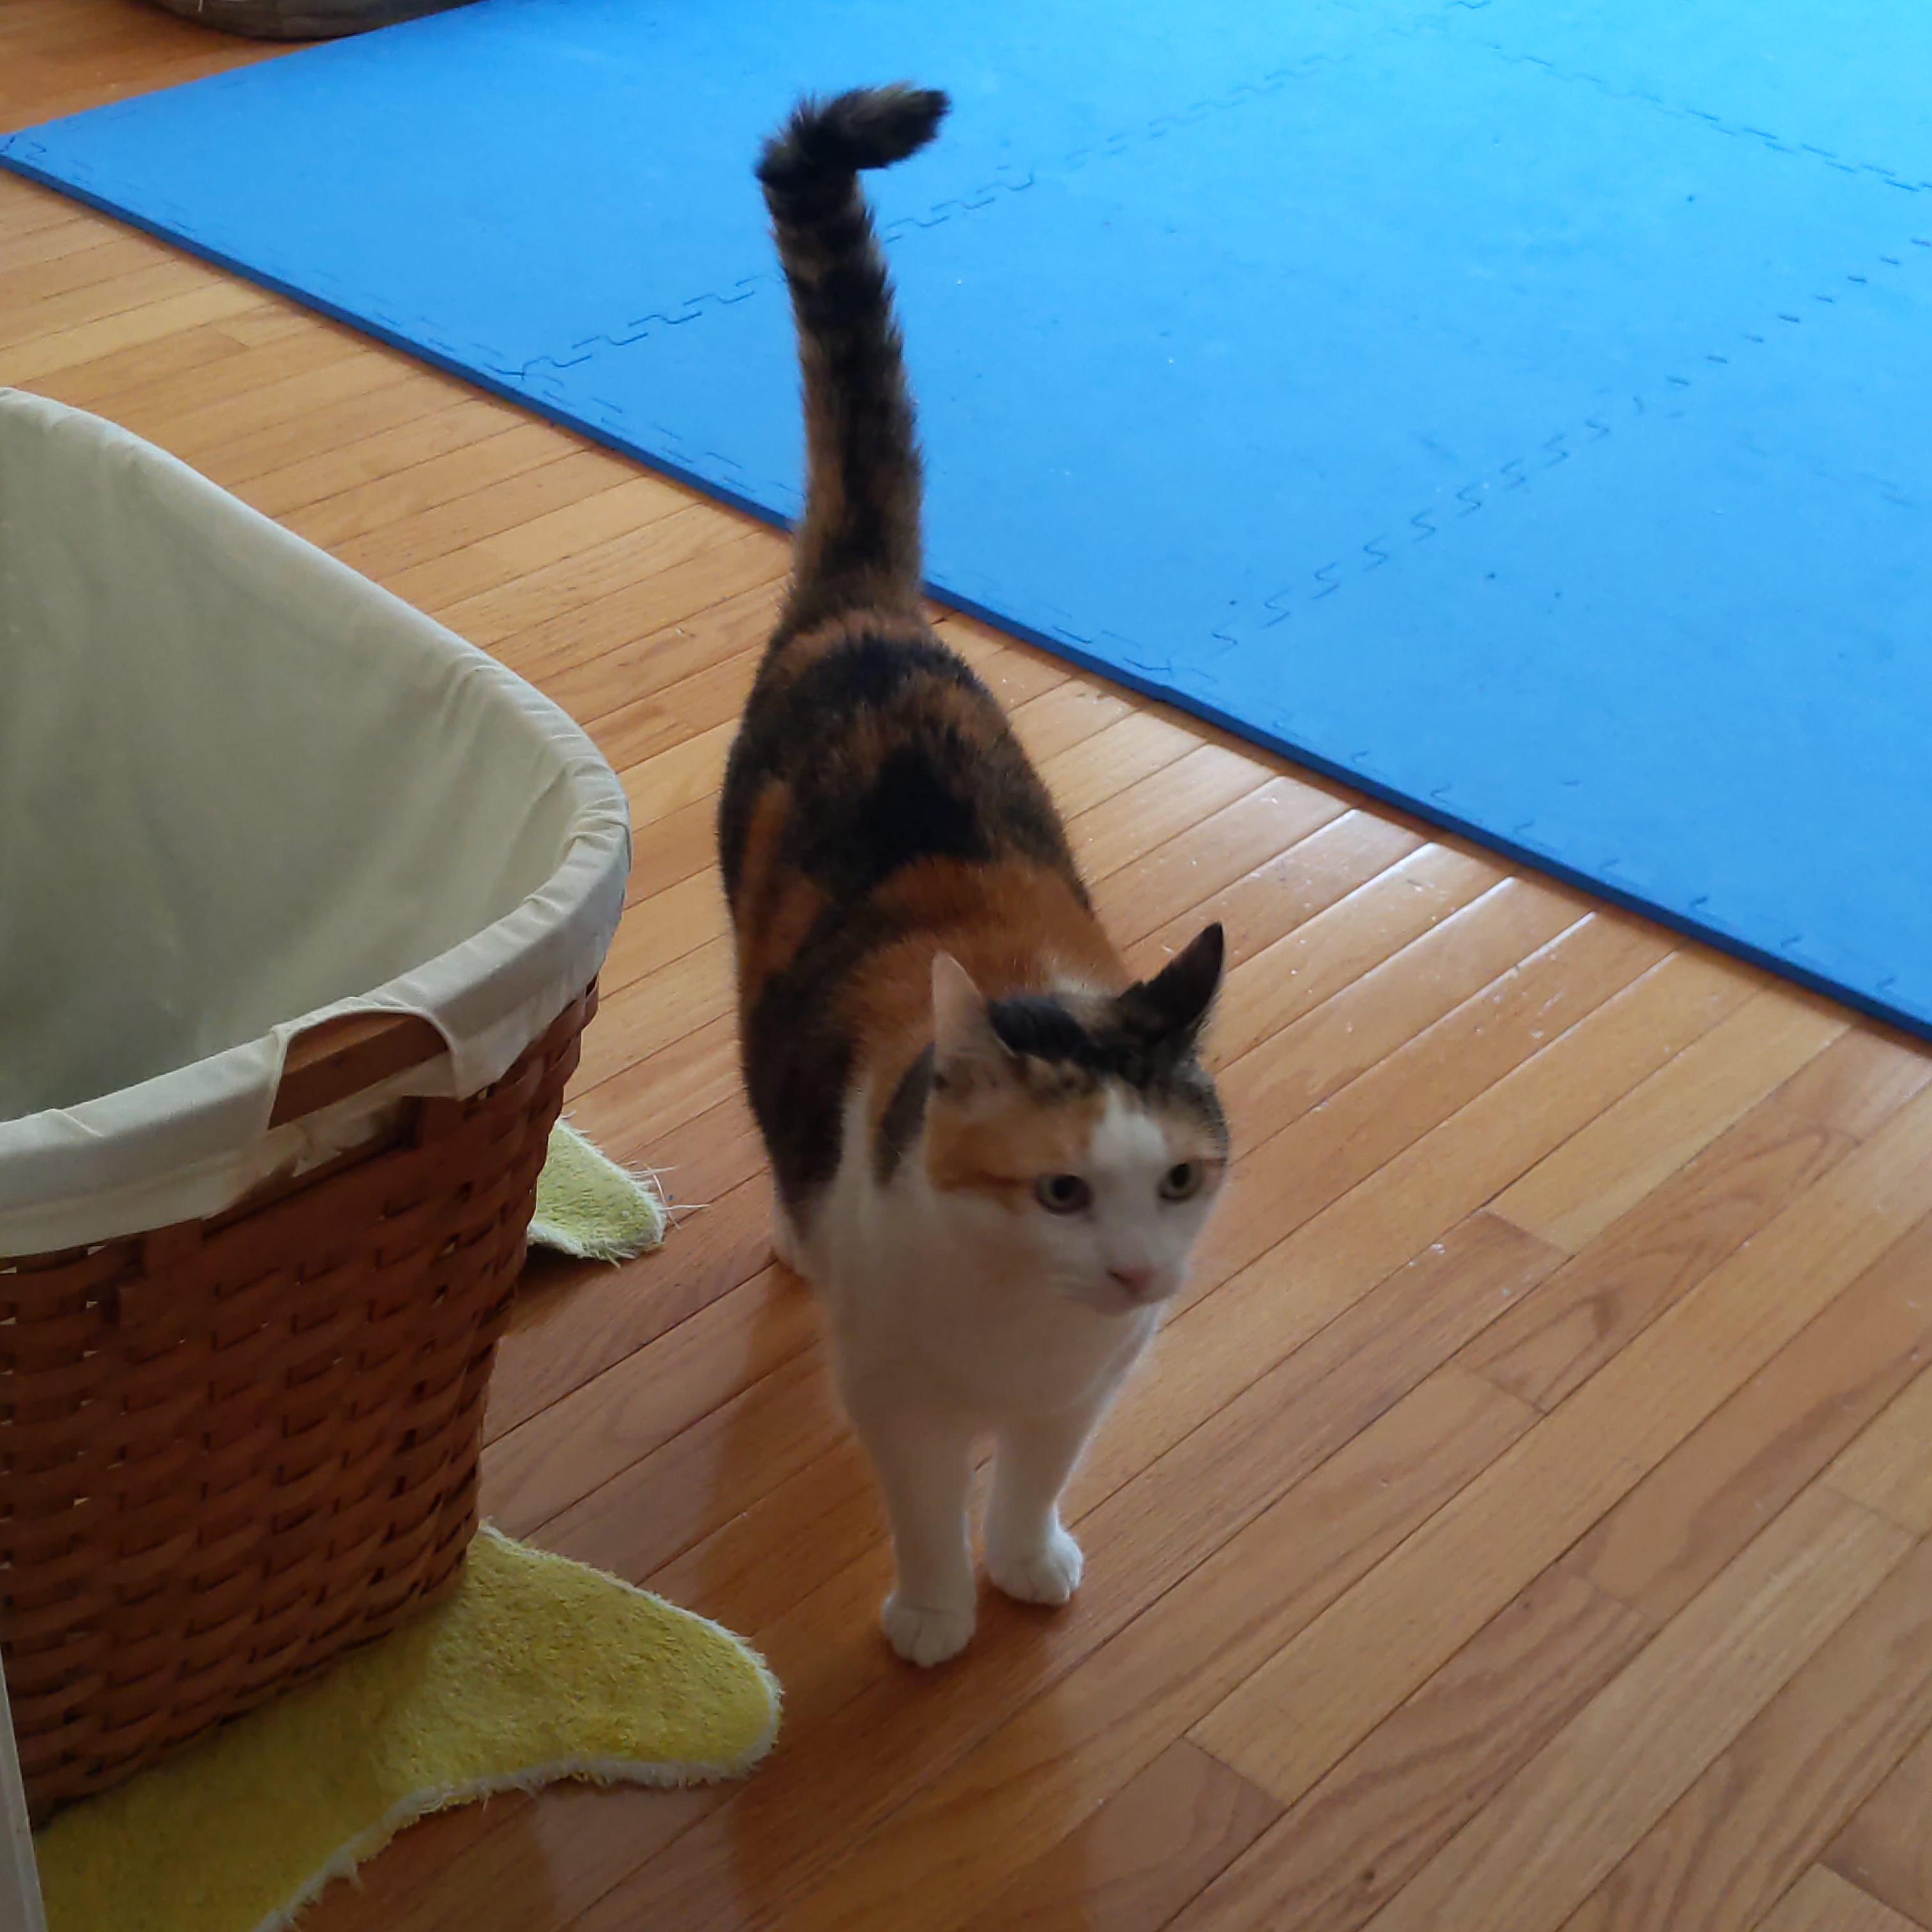Calico: (717, 85, 1231, 1670)
